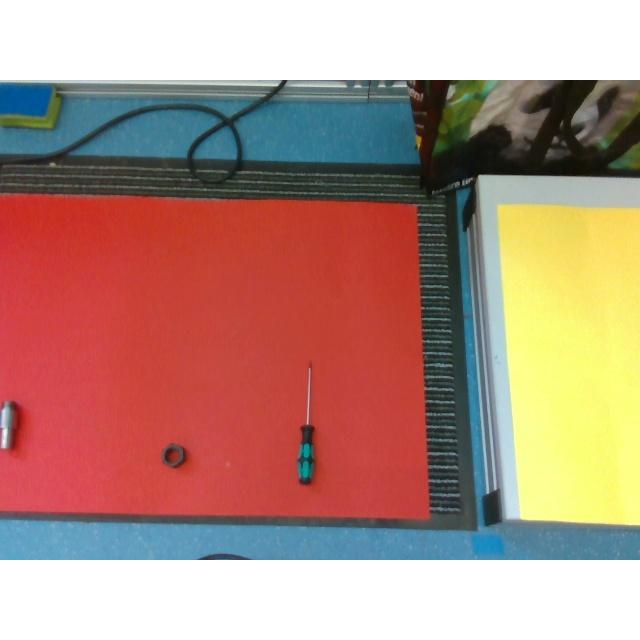Axis2: (0, 400, 18, 450)
M20: (162, 444, 186, 468)
Screwdriver: (297, 361, 315, 484)
